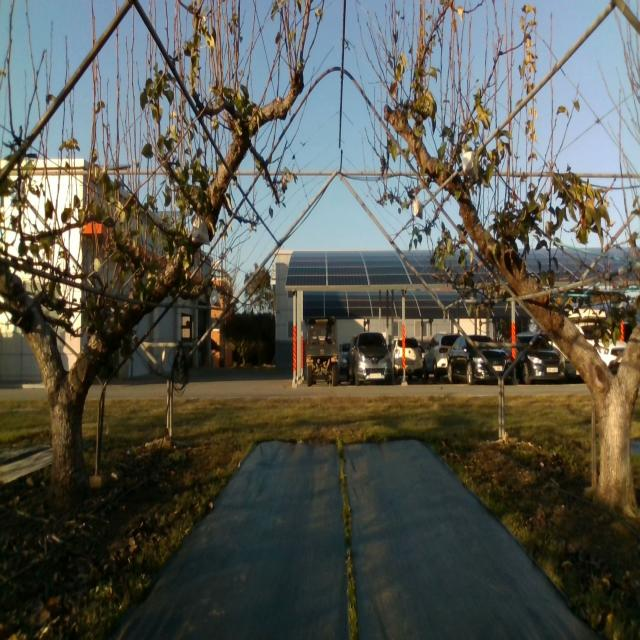pearbags: (192, 215, 210, 246), (461, 147, 474, 176)
